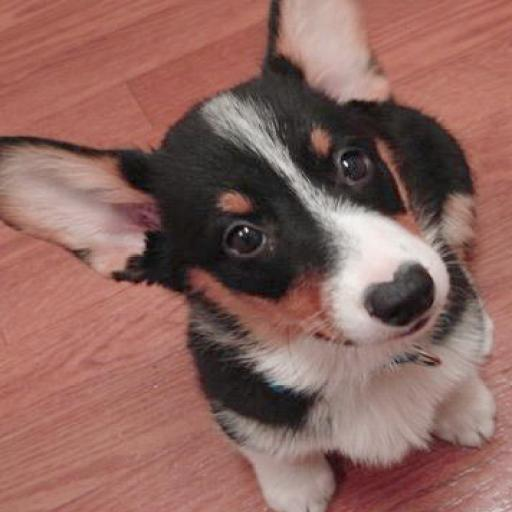dog_face: (0, 0, 467, 351)
